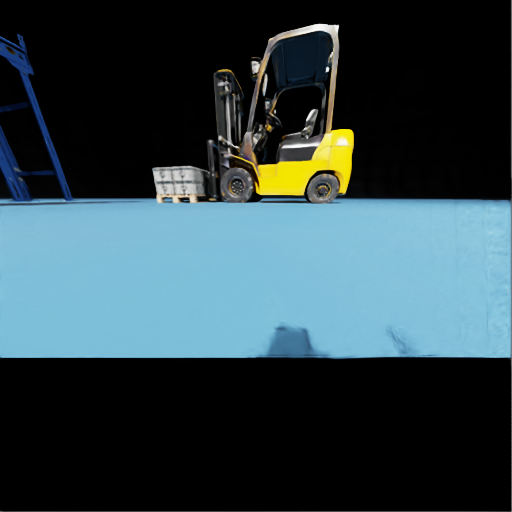transportation_area: (174, 181, 210, 194)
